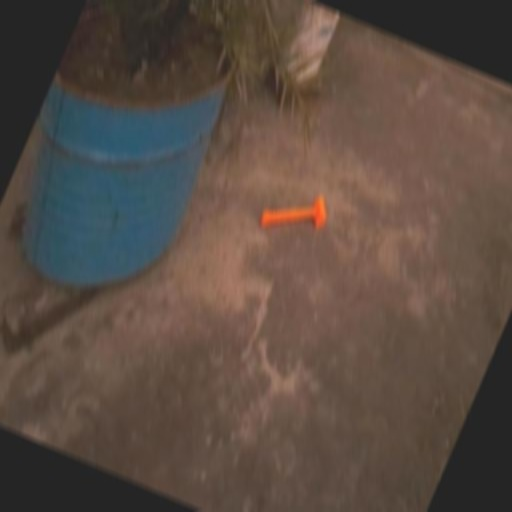mallet: (261, 176, 333, 238)
